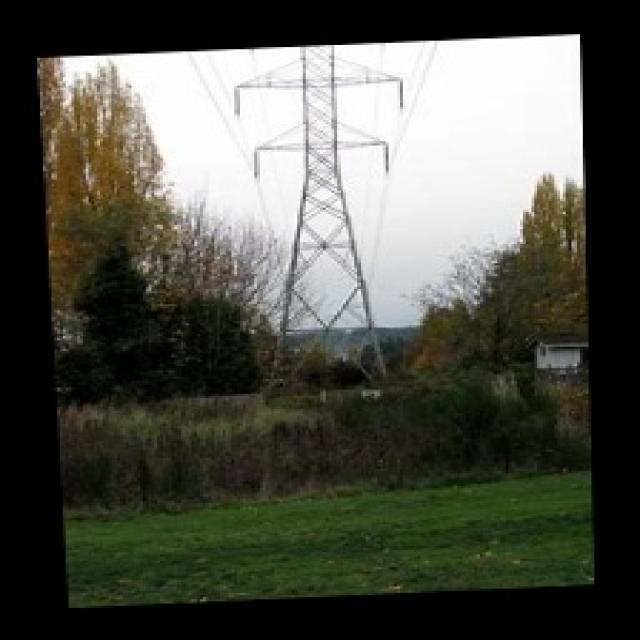utility poles: (211, 280, 332, 410), (341, 327, 458, 426)
